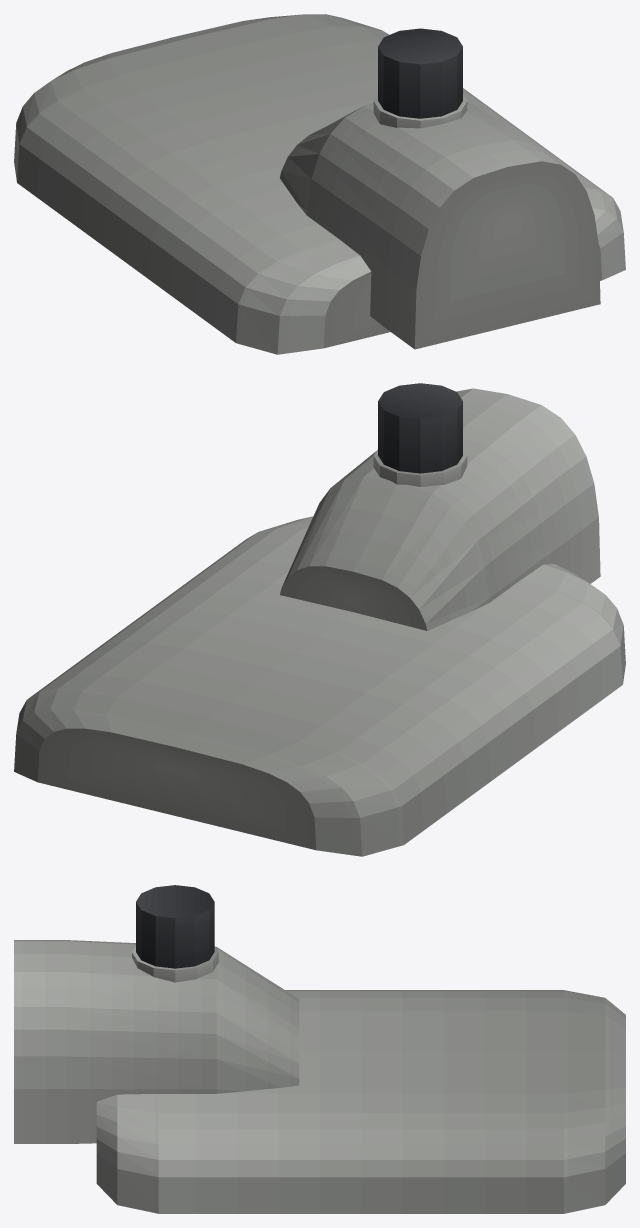
File: streetlight_smsmx.obj
3 views of the same model, one above another, from view 1: azimuth 30°, elevation 25°; view 2: azimuth 150°, elevation 25°; view 3: azimuth 270°, elevation 25° (orthographic). The views are drawn at different scales.
Parts seen in each view (by area): view 1: fixture; view 2: fixture; view 3: fixture.
Part boxes in pixels (x1=…): fixture: x1=14, y1=14, x2=625, y2=354; fixture: x1=14, y1=383, x2=625, y2=856; fixture: x1=14, y1=885, x2=625, y2=1213.
Size of the model in its own units: 0.625 by 0.3844 by 0.925.
